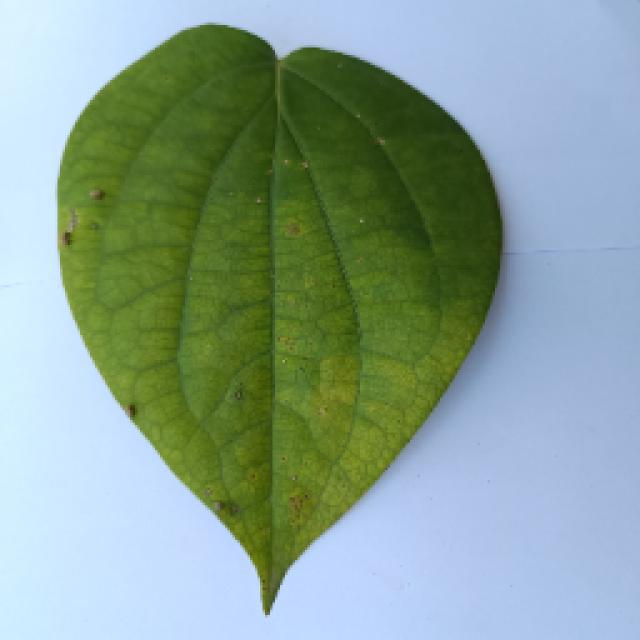slow-decline: (58, 23, 500, 615)
